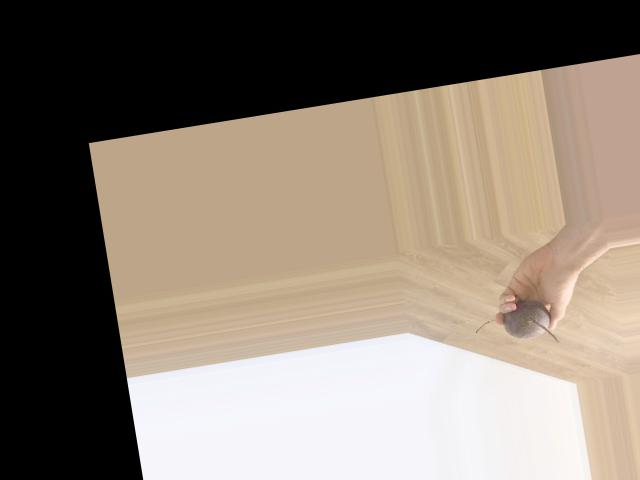beet: (471, 296, 558, 354)
